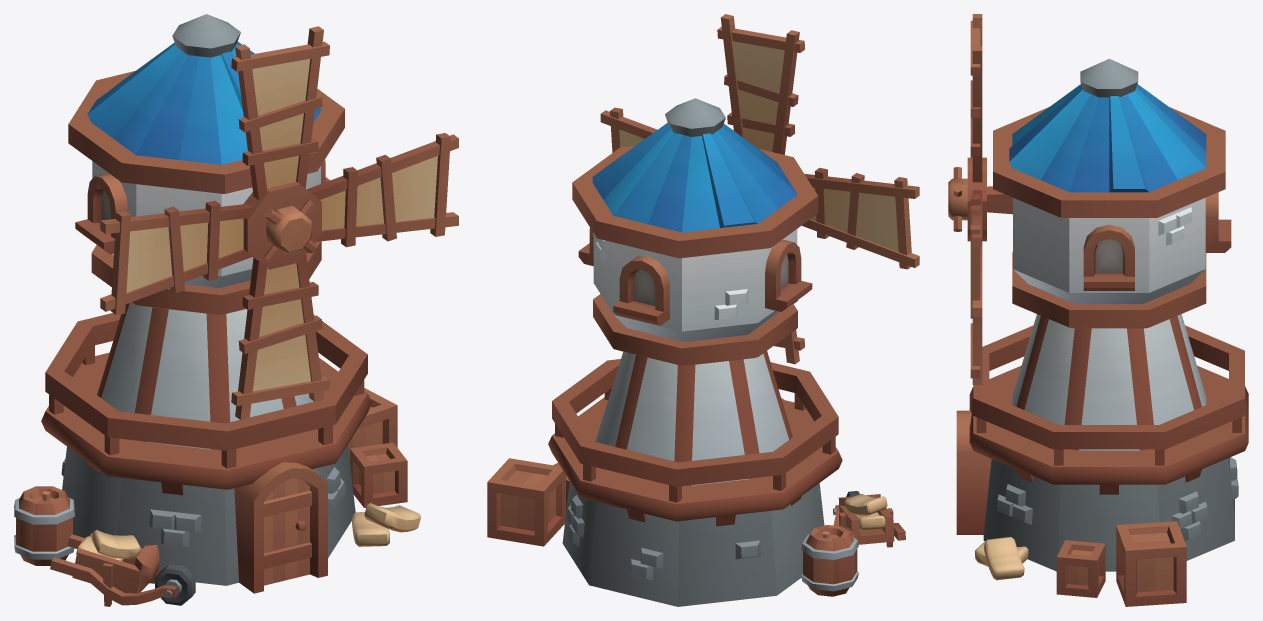
File: windmill.glb
The picture shows the model from 3 angles, left to right: view 1: azimuth 30°, elevation 25°; view 2: azimuth 150°, elevation 25°; view 3: azimuth 270°, elevation 25°; orthographic projection. The views are drawn at different scales.
Visible parts, largest first — view 1: building_windmill_blue, building_windmill_top_fan_blue, building_windmill_top_blue; view 2: building_windmill_blue, building_windmill_top_blue, building_windmill_top_fan_blue; view 3: building_windmill_blue, building_windmill_top_blue, building_windmill_top_fan_blue.
Part boxes in pixels (left/top/right/bottom): building_windmill_blue: left=14, top=302, right=420, bottom=606; building_windmill_top_fan_blue: left=100, top=26, right=458, bottom=419; building_windmill_top_blue: left=68, top=14, right=344, bottom=314; building_windmill_blue: left=487, top=351, right=905, bottom=606; building_windmill_top_blue: left=572, top=98, right=818, bottom=365; building_windmill_top_fan_blue: left=600, top=14, right=919, bottom=364; building_windmill_blue: left=956, top=314, right=1248, bottom=606; building_windmill_top_blue: left=987, top=58, right=1231, bottom=328; building_windmill_top_fan_blue: left=948, top=14, right=986, bottom=384.
Size of the model in its own units: 1.13 by 1.46 by 0.8165.
1 material, 1 textured.
